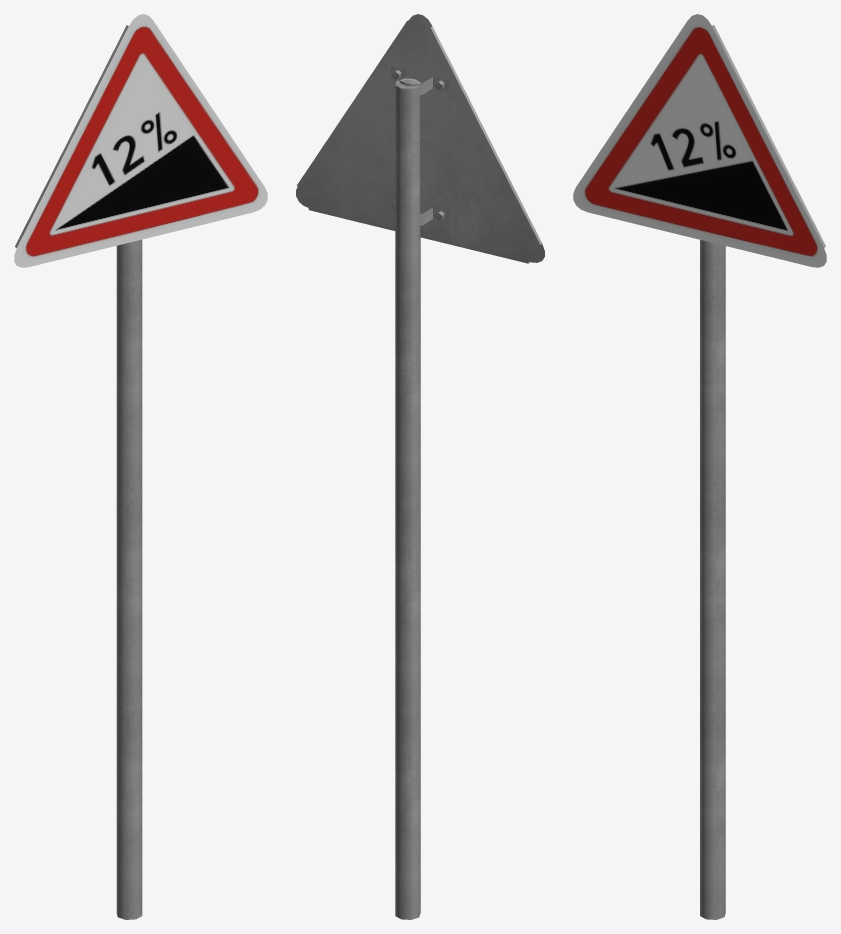
Rendered from Hill.glb.
3 views of the same model, side by side, from view 1: azimuth 30°, elevation 25°; view 2: azimuth 150°, elevation 25°; view 3: azimuth 330°, elevation 25° (orthographic).
Parts seen in each view (by area): view 1: Plane.001, __Pole.001; view 2: Plane.001, __Pole.001; view 3: Plane.001, __Pole.001.
Boxes of the visible parts, <box> form: Plane.001: <box>14,14,267,267</box>; __Pole.001: <box>116,239,142,919</box>; Plane.001: <box>296,14,544,263</box>; __Pole.001: <box>395,78,420,919</box>; Plane.001: <box>573,14,826,267</box>; __Pole.001: <box>700,240,725,919</box>.
Size of the model in its own units: 2.19 by 7.51 by 0.2831.
2 materials, 2 textured.
